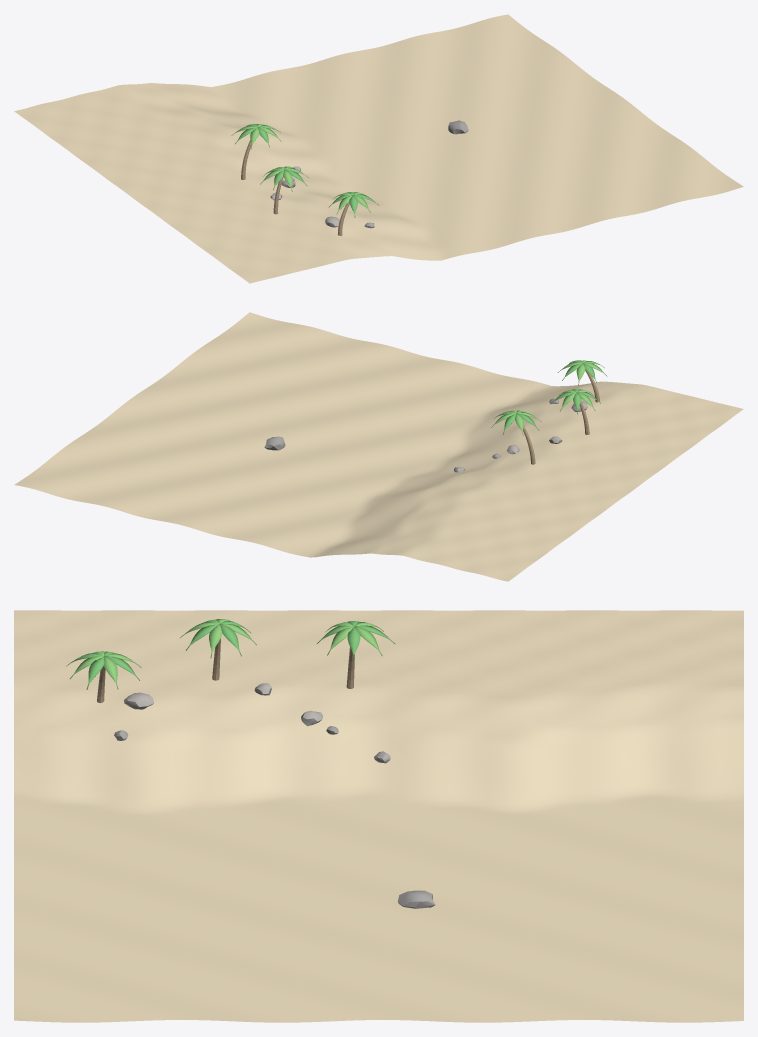
The model's file is shore.glb.
The picture shows the model from 3 angles, top to bottom: view 1: azimuth 30°, elevation 25°; view 2: azimuth 150°, elevation 25°; view 3: azimuth 270°, elevation 25°; orthographic projection. The views are drawn at different scales.
Parts seen in each view (by area): view 1: shore; view 2: shore; view 3: shore.
Part boxes in pixels (x1,y1,x2,y2): shore: (14,14,743,283); shore: (14,312,743,581); shore: (14,610,743,1022).
Bounding box in the file's own units: 46 × 6.76 × 38.
